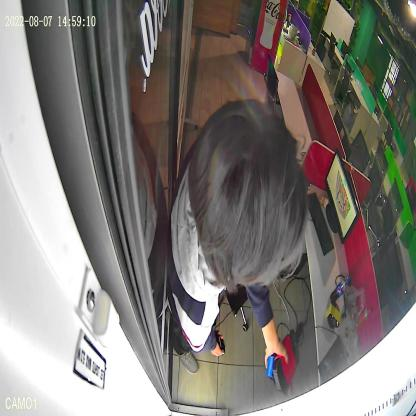blue: (266, 354, 276, 388)
red: (272, 329, 300, 397)
